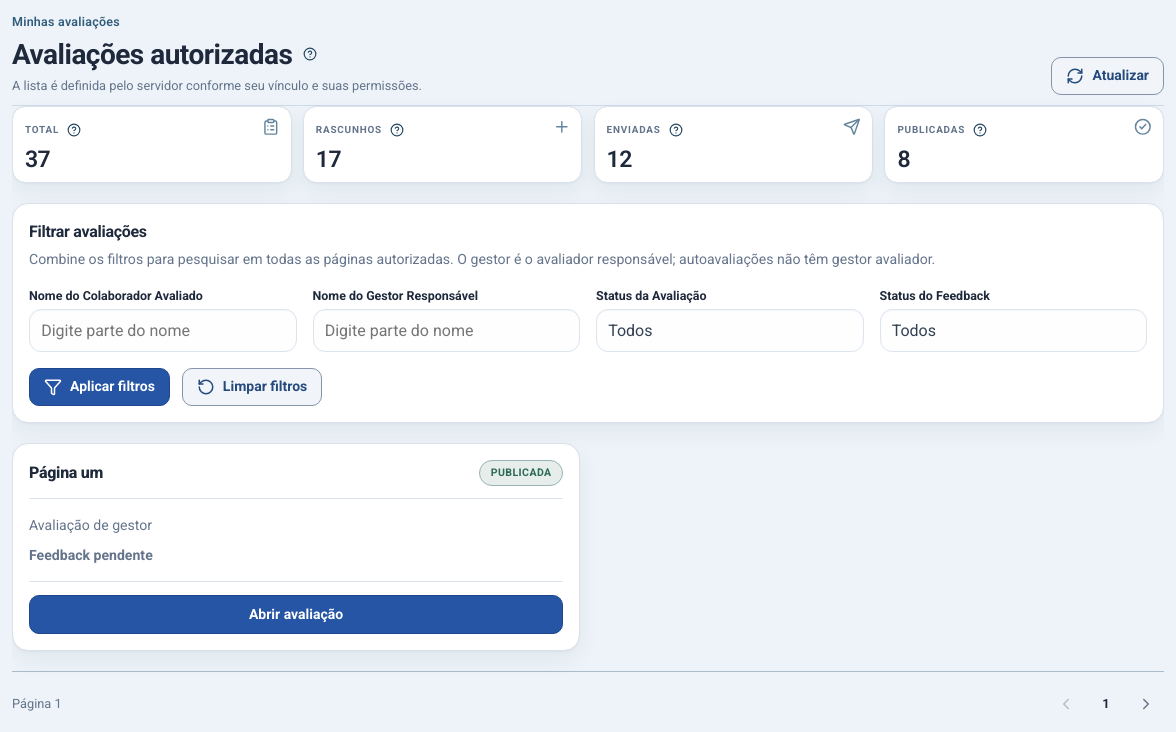
Test: Totais globais enviados pelo servidor › mantém os mesmos totais entre páginas e usa os totais dos filtros aplicados
Expected: the heading "Página um" is shown, left=29, top=463, right=103, bottom=482
Click the button named "Próxima página". click: coordinates (1146, 704)
box: left=1128, top=686, right=1164, bottom=722
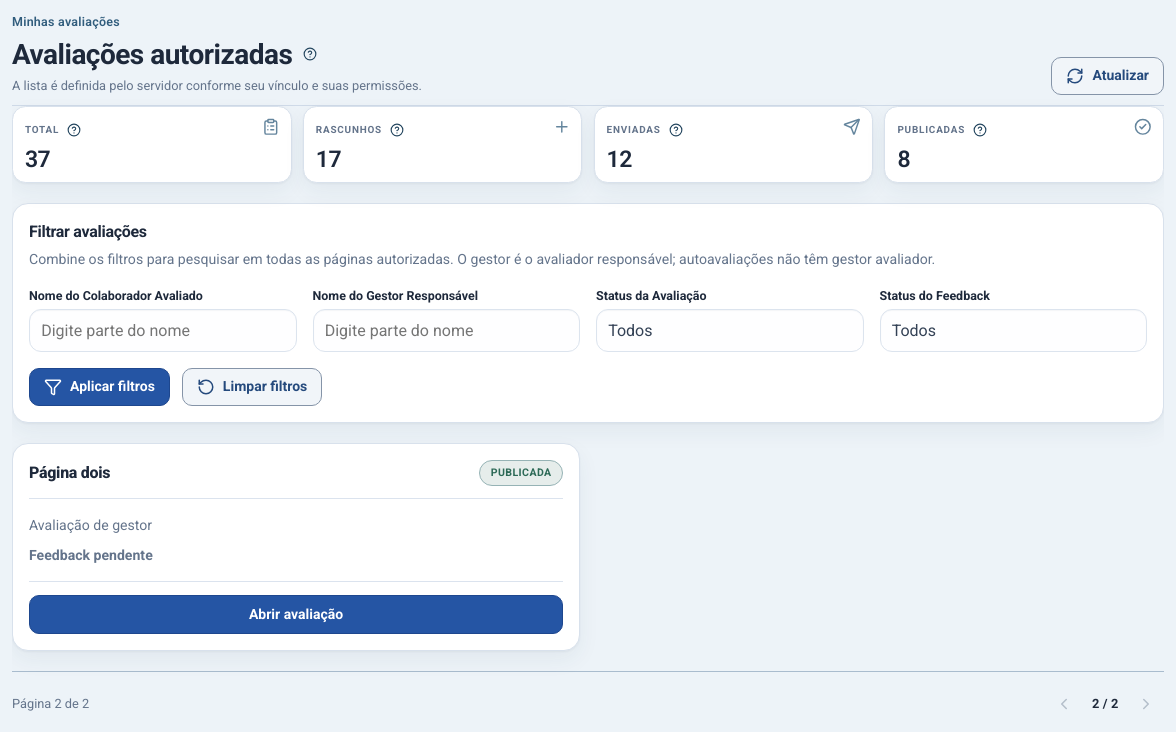
Now the heading "Página dois" is shown, box left=29, top=463, right=110, bottom=482
Type "Resultado" into the search field labelled "Nome do Colaborador Avaliado". click: coordinates (163, 331)
box: left=29, top=309, right=296, bottom=352
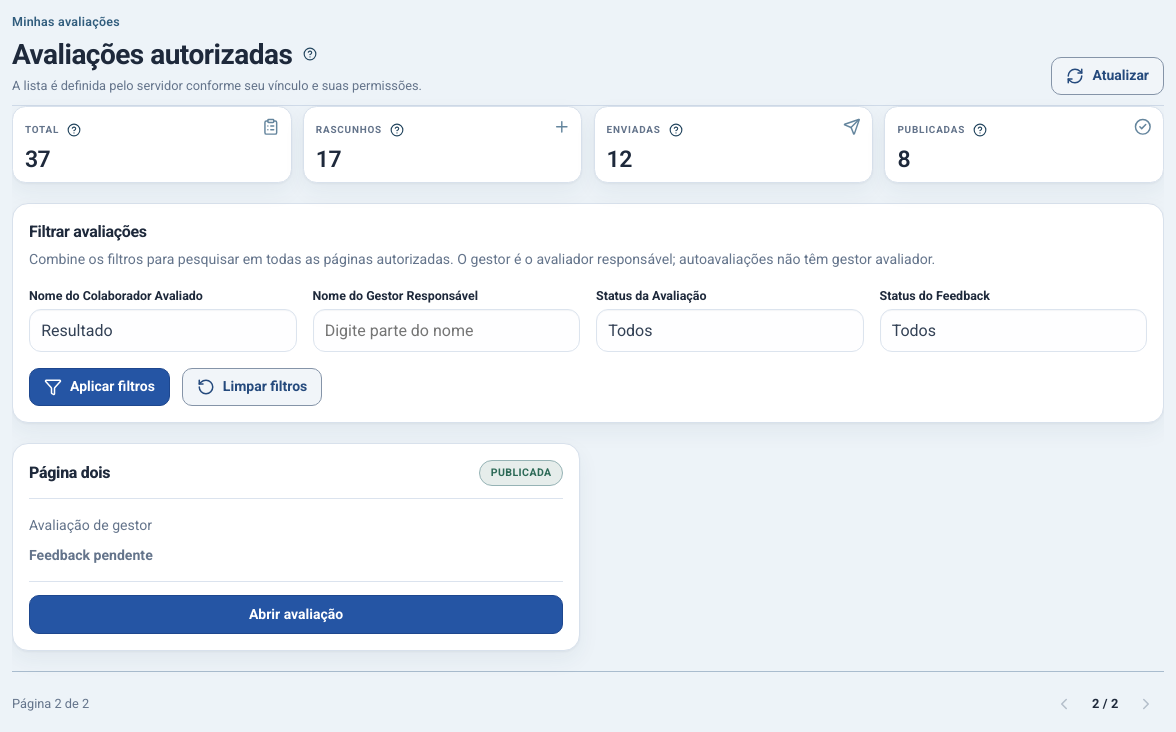
Click the button "Aplicar filtros". click: coordinates (99, 387)
box: left=29, top=368, right=170, bottom=406
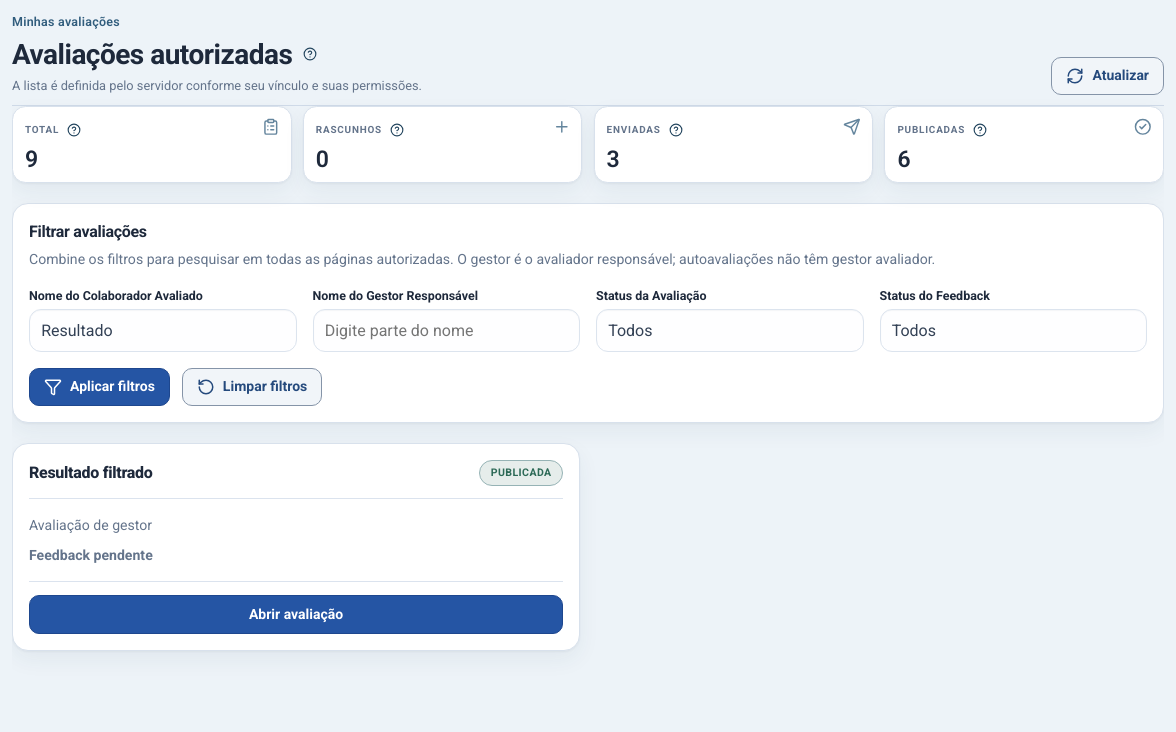
Now the heading "Resultado filtrado" is shown, box left=29, top=463, right=152, bottom=482
